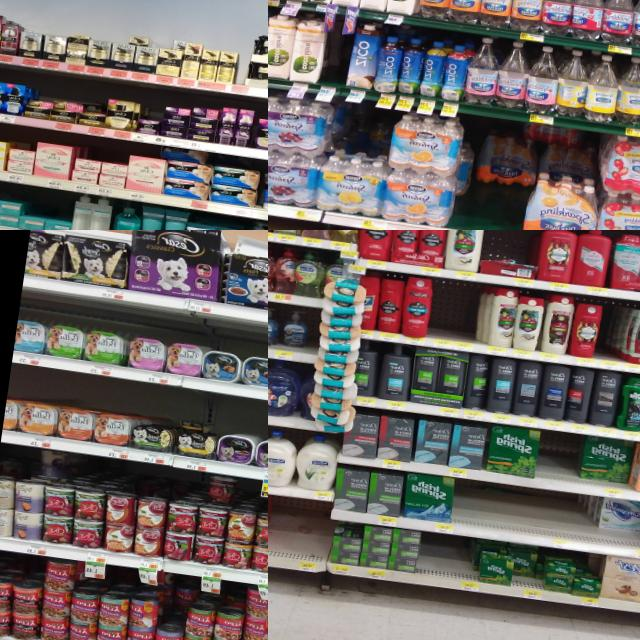100% O.O.S: (454, 478, 578, 550), (268, 494, 331, 573), (414, 532, 470, 590), (534, 430, 581, 492), (428, 280, 458, 350), (453, 284, 482, 353), (597, 304, 623, 370)
100- O.O.S: (465, 180, 526, 230), (323, 32, 354, 98), (234, 54, 248, 94)
